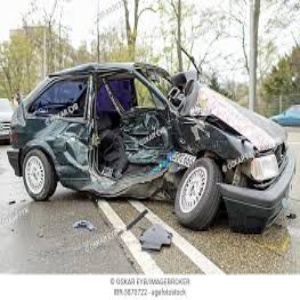door: (61, 123, 142, 197)
